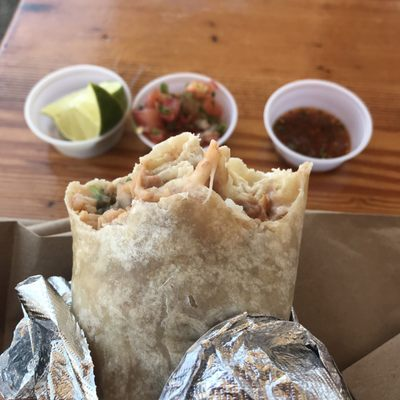soup: (58, 132, 312, 399)
sushi: (23, 63, 131, 160), (263, 79, 373, 174), (130, 72, 239, 150)
